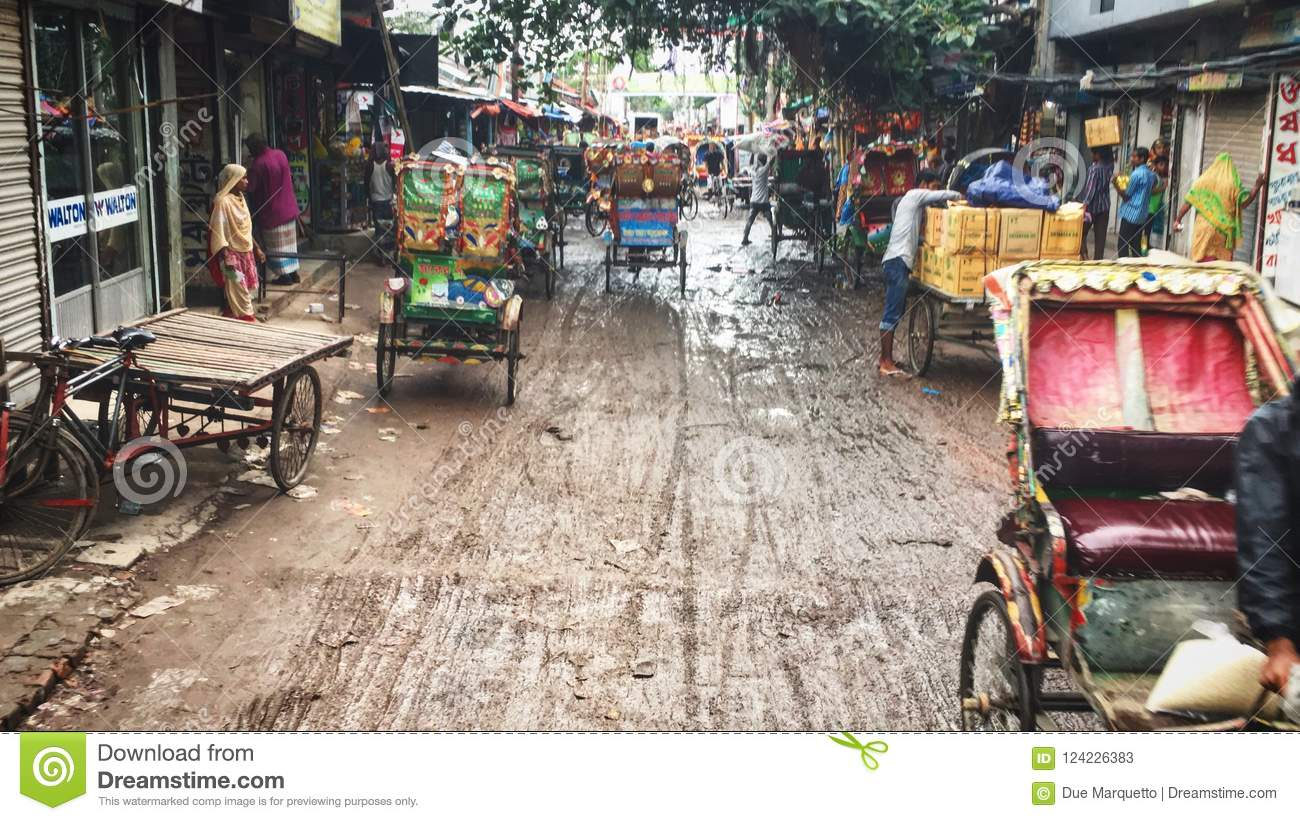Rickshaw: (975, 258, 1298, 724), (378, 137, 524, 393), (607, 130, 694, 301), (851, 138, 920, 279), (769, 145, 836, 287), (499, 136, 561, 267)
